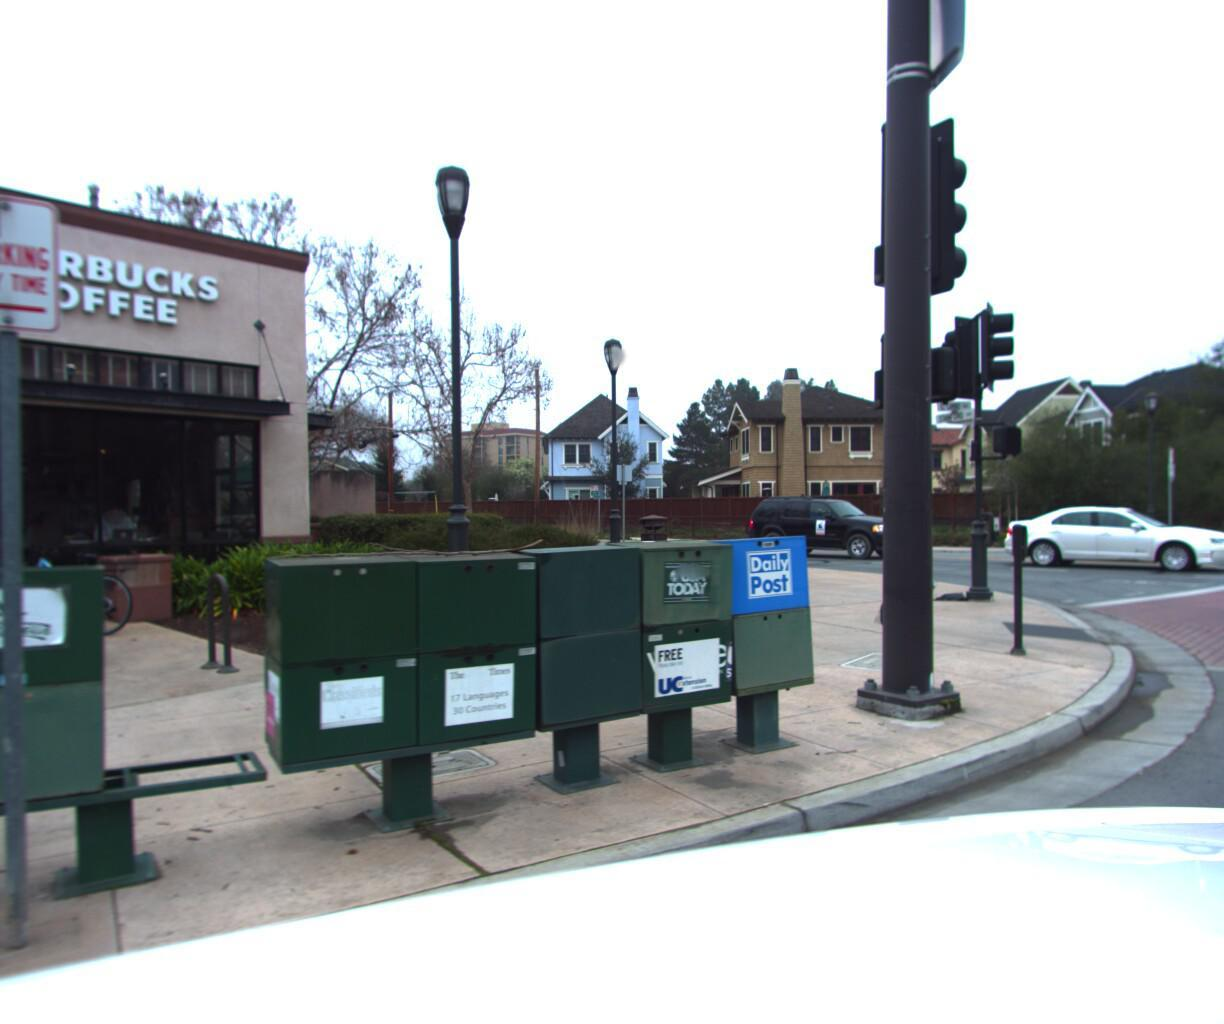bicycle: (0, 532, 152, 639), (0, 530, 6, 651)
car: (1000, 497, 1224, 573), (736, 488, 913, 561)
